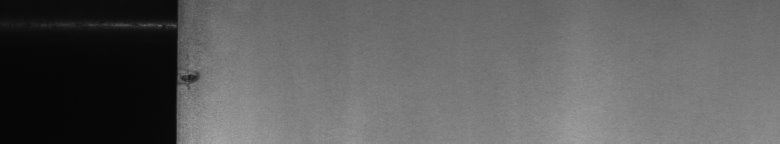hb: (188, 38, 208, 92)
